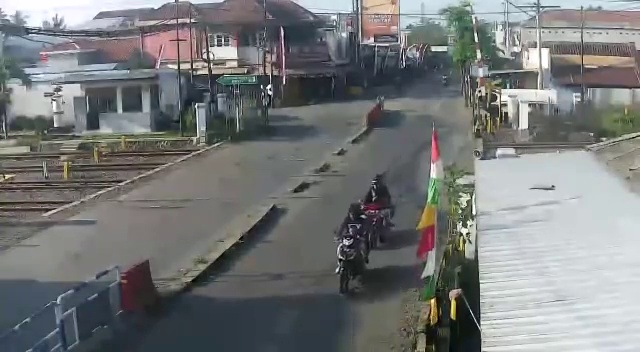motorbike: (333, 198, 369, 295), (359, 172, 396, 245)
